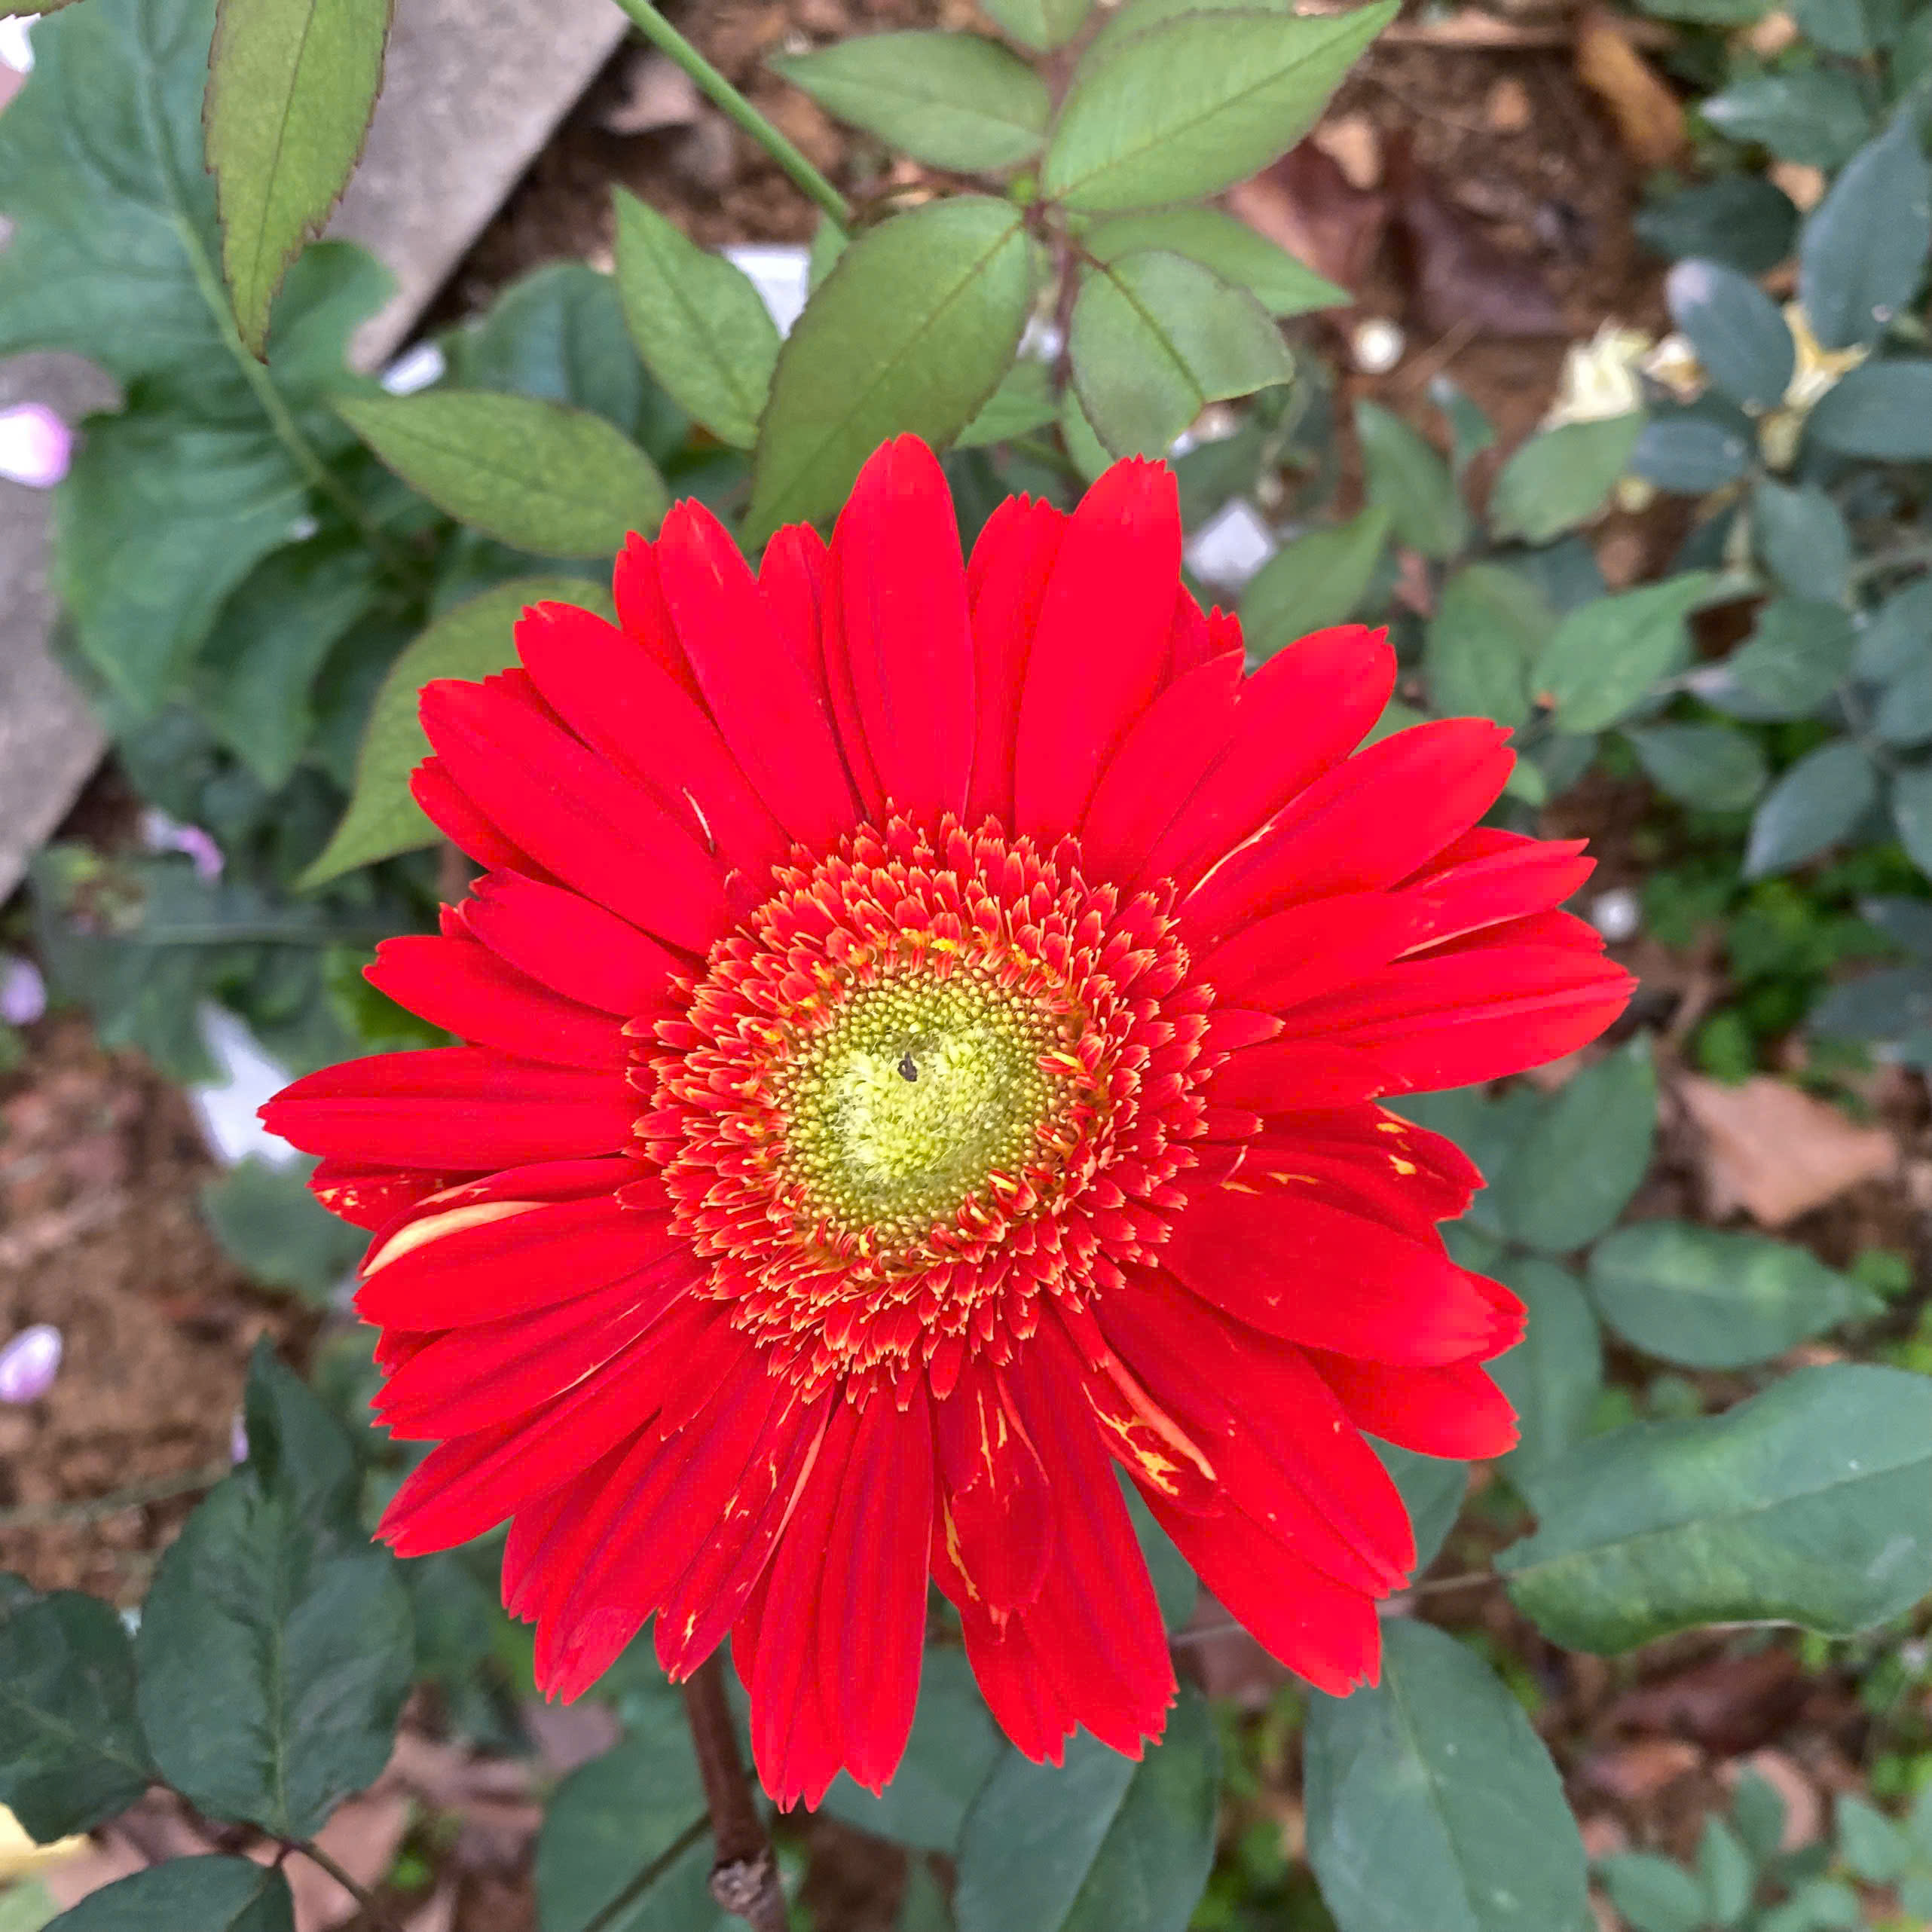hoa_huong_duong: (246, 386, 1626, 1815)
